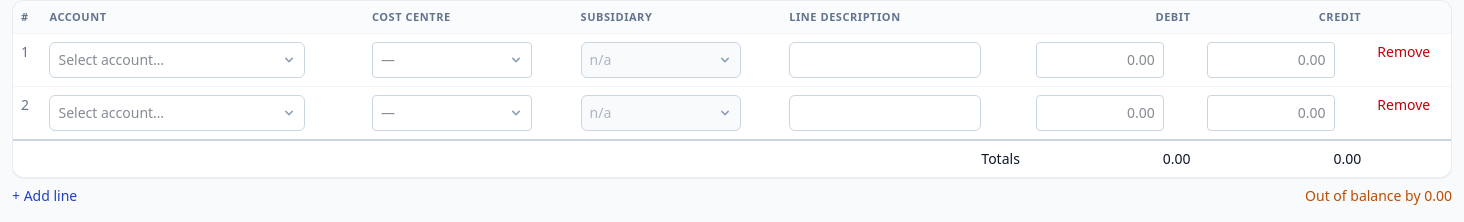
Test case: LinesEditor › totals exactly and reports balance
Type "0.10" into the field named "Line 1 debit". click: (1100, 60)
box: [1036,42,1164,78]
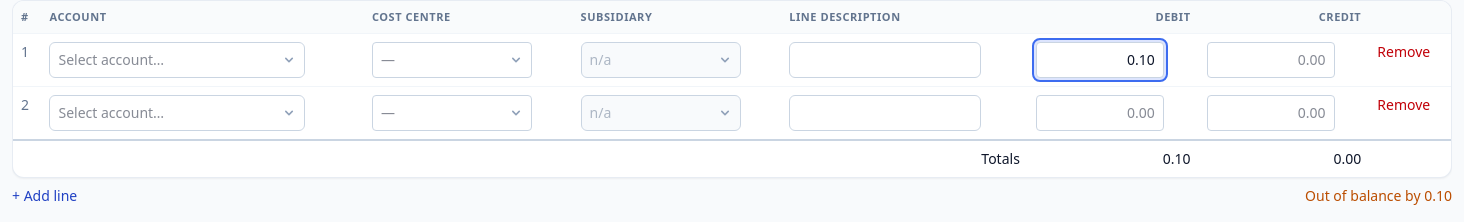
Type "0.1" into the field named "Line 2 credit". click: (1271, 113)
box: [1207,95,1335,131]
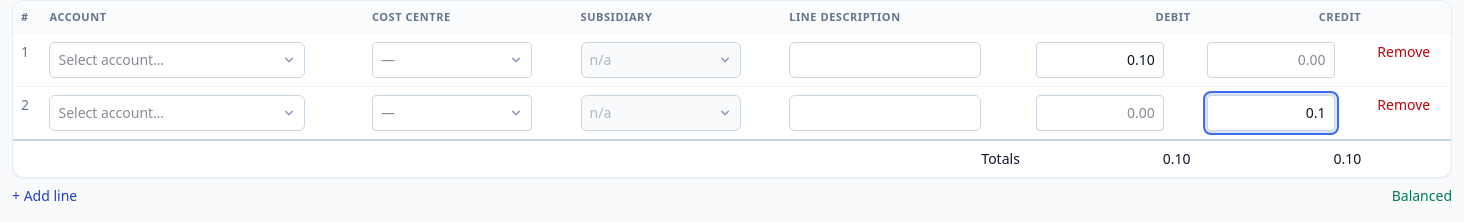
Now the cell with test id "total-debit" reads "0.10", box [1163,149,1191,168]
Now the cell with test id "total-credit" reads "0.10", box [1334,149,1361,168]
Now the message reads "Balanced", box [1392,186,1452,205]
